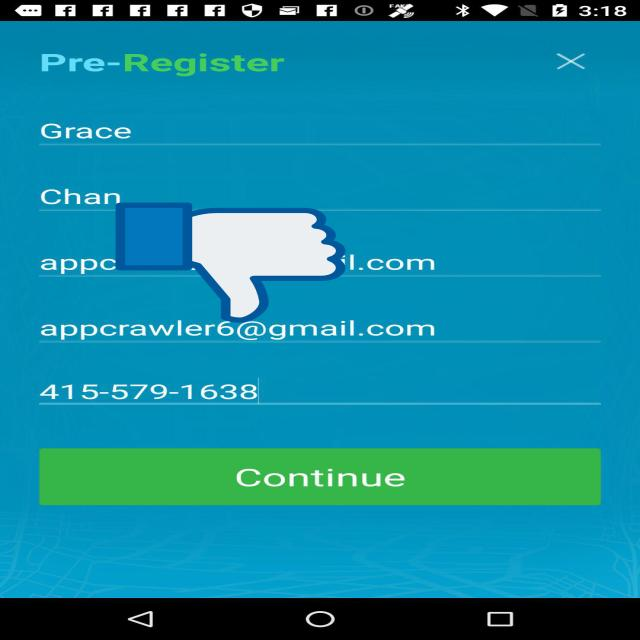obstruction: (116, 200, 346, 325)
